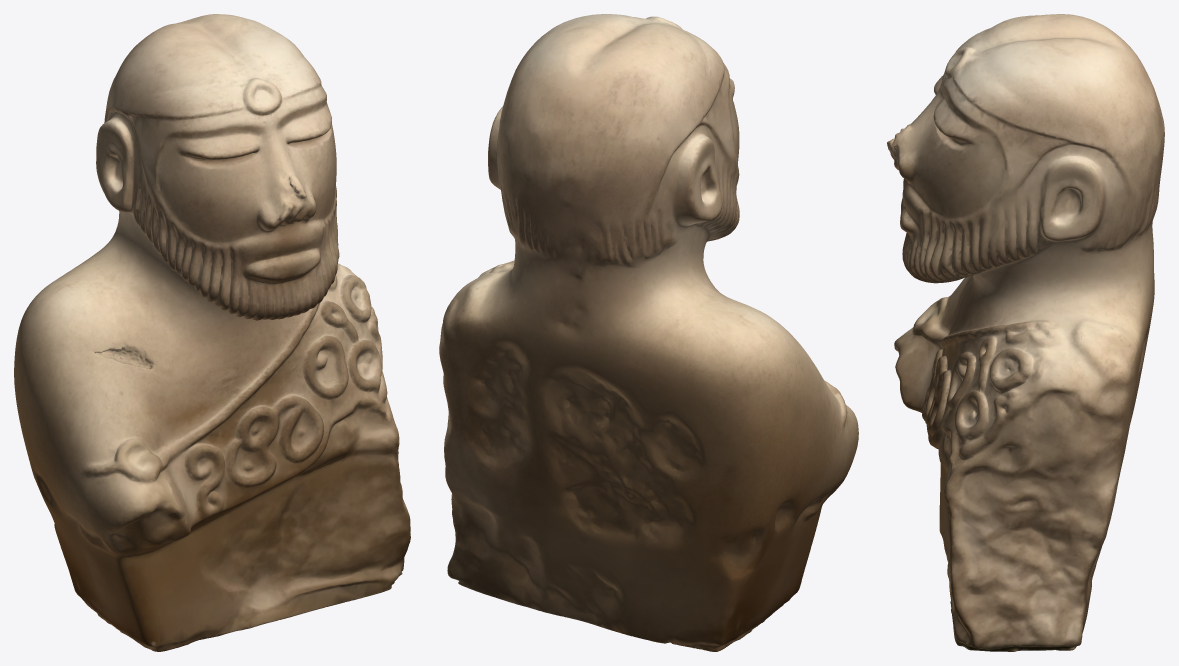
3 views of the same model, side by side, from view 1: azimuth 30°, elevation 25°; view 2: azimuth 150°, elevation 25°; view 3: azimuth 270°, elevation 25° (orthographic). The views are drawn at different scales.
Bounding box in the file's own units: 0.6343 × 1 × 0.4586.
Materials: 1 (1 with a texture image).
